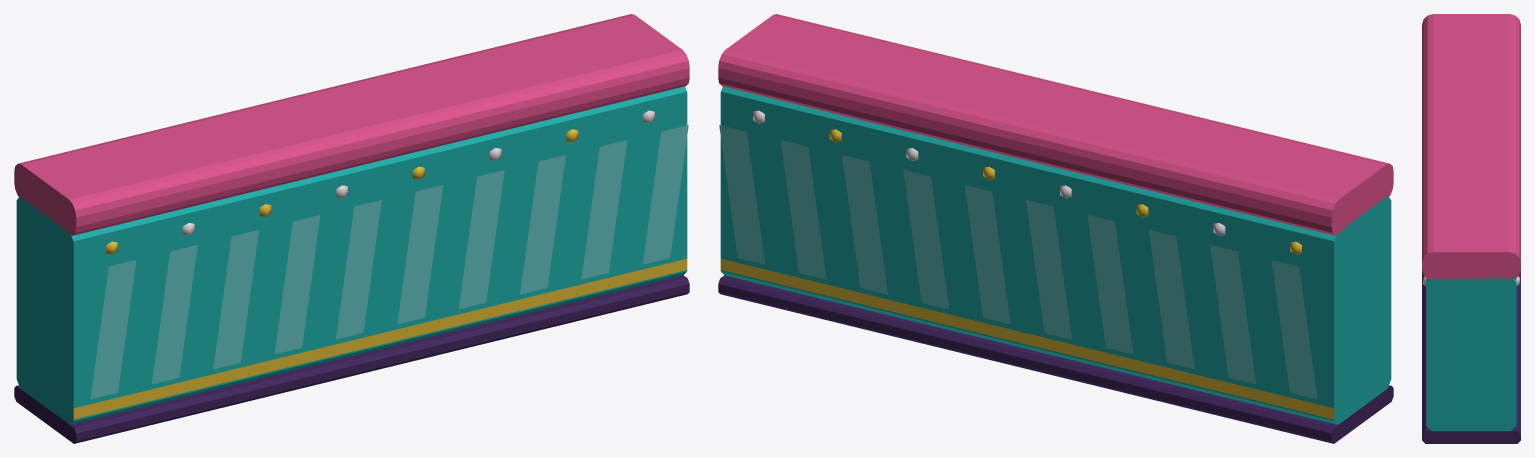
The model's file is carnival-border.glb.
3 renders of one model, left to right at view 1: azimuth 30°, elevation 25°; view 2: azimuth 150°, elevation 25°; view 3: azimuth 270°, elevation 25°, orthographic. The views are drawn at different scales.
Parts seen in each view (by area): view 1: carnival-border; view 2: carnival-border; view 3: carnival-border.
Boxes of the visible parts, x1,y1,x2,y2 form: carnival-border: (14,14,689,443); carnival-border: (718,14,1393,443); carnival-border: (1422,14,1520,443).
Bounding box in the file's own units: 4.01 × 1.5 × 0.7.
